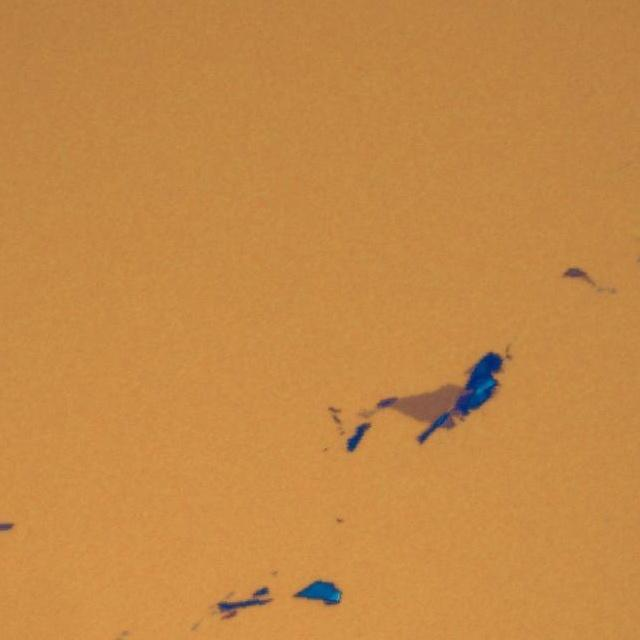monolayer-eWW4: (391, 382, 460, 425)
